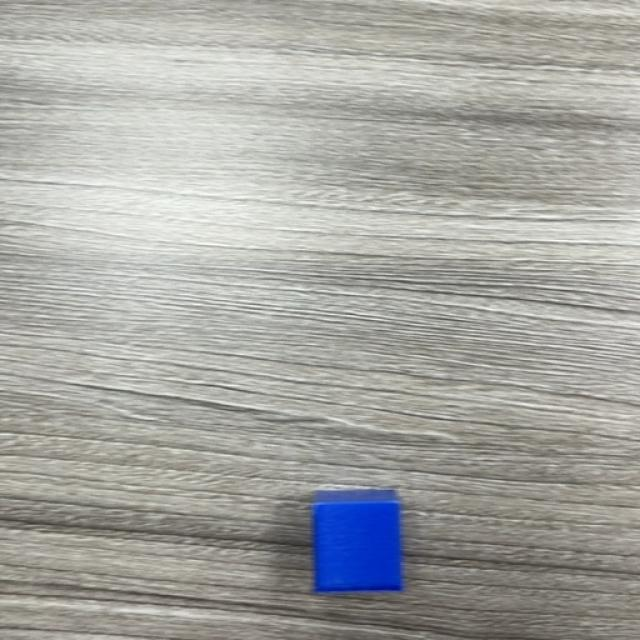Azul: (310, 492, 404, 596)
